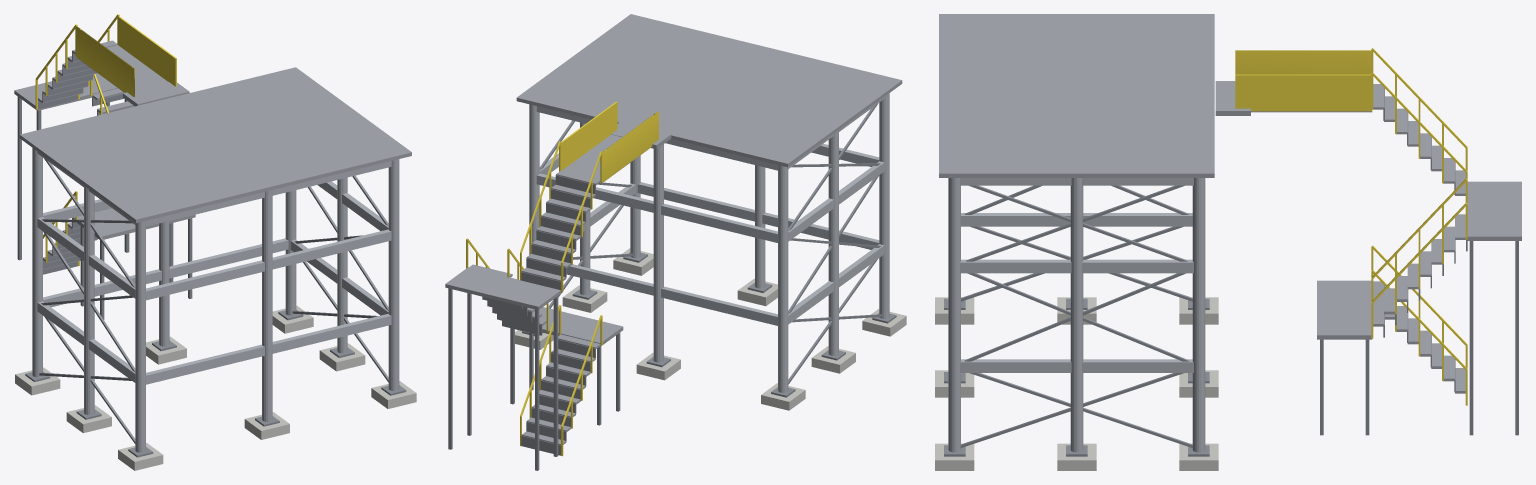
File: DCS_Support_V2.fbx
3 renders of one model, left to right at view 1: azimuth 30°, elevation 25°; view 2: azimuth 150°, elevation 25°; view 3: azimuth 270°, elevation 25°, orthographic. The views are drawn at different scales.
Parts seen in each view (by area): view 1: Deck_Grate, BeamBack_2.7, BeamBack_5.5, Col_2, Col_3, Col_5, Col_1, BeamFront_2.7, Col_7, Rail_Cat_R, Rail_Cat_L, BeamBack_8.0 (+26 smaller); view 2: Deck_Grate, Stair_Landing2, BeamFront_2.7, Col_1, BeamFront_5.5, Col_4, Col_3, BeamBack_2.7, Col_7, Rail_Cat_R, Rail_Cat_L, Stair_Landing1 (+24 smaller); view 3: Deck_Grate, Rail_Cat_L, Col_0, Col_6, Col_2, Rail_Cat_R, BeamLeft_5.5, Stair_Landing1, Stair_Landing2, BeamLeft_2.7, BeamRight_2.7, BeamLeft_8.0 (+18 smaller).
Part boxes in pixels (x1,y1,x2,y2): Deck_Grate: (19, 67, 411, 223); BeamBack_2.7: (146, 313, 391, 384); BeamBack_5.5: (146, 229, 391, 300); Col_2: (388, 159, 399, 390); Col_3: (135, 221, 145, 452); Col_5: (262, 190, 272, 421); Col_1: (32, 148, 42, 377); BeamFront_2.7: (43, 238, 288, 307); Col_7: (84, 185, 94, 414); Rail_Cat_R: (76, 27, 134, 96); Rail_Cat_L: (118, 16, 176, 86); BeamBack_8.0: (146, 161, 391, 226); Deck_Grate: (516, 14, 902, 167); Stair_Landing2: (445, 267, 561, 310); BeamFront_2.7: (566, 264, 777, 325); Col_1: (778, 165, 788, 392); BeamFront_5.5: (536, 173, 777, 242); Col_4: (653, 144, 663, 362); Col_3: (879, 93, 889, 318); BeamBack_2.7: (637, 182, 879, 249); Col_7: (828, 130, 838, 355); Rail_Cat_R: (600, 111, 658, 182); Rail_Cat_L: (561, 101, 617, 170); Stair_Landing1: (534, 307, 623, 346); Deck_Grate: (939, 14, 1214, 177); Rail_Cat_L: (1235, 74, 1372, 111); Col_0: (1192, 178, 1205, 452); Col_6: (1070, 178, 1083, 452); Col_2: (948, 178, 960, 452); Rail_Cat_R: (1235, 50, 1371, 74); BeamLeft_5.5: (960, 259, 1193, 273); Stair_Landing1: (1317, 280, 1372, 339); Stair_Landing2: (1467, 181, 1521, 240); BeamLeft_2.7: (960, 359, 1193, 372); BeamRight_2.7: (961, 213, 1192, 226); BeamLeft_8.0: (960, 178, 1193, 185).
Bounding box in the file's own units: 9.8 × 9.32 × 14.9.
